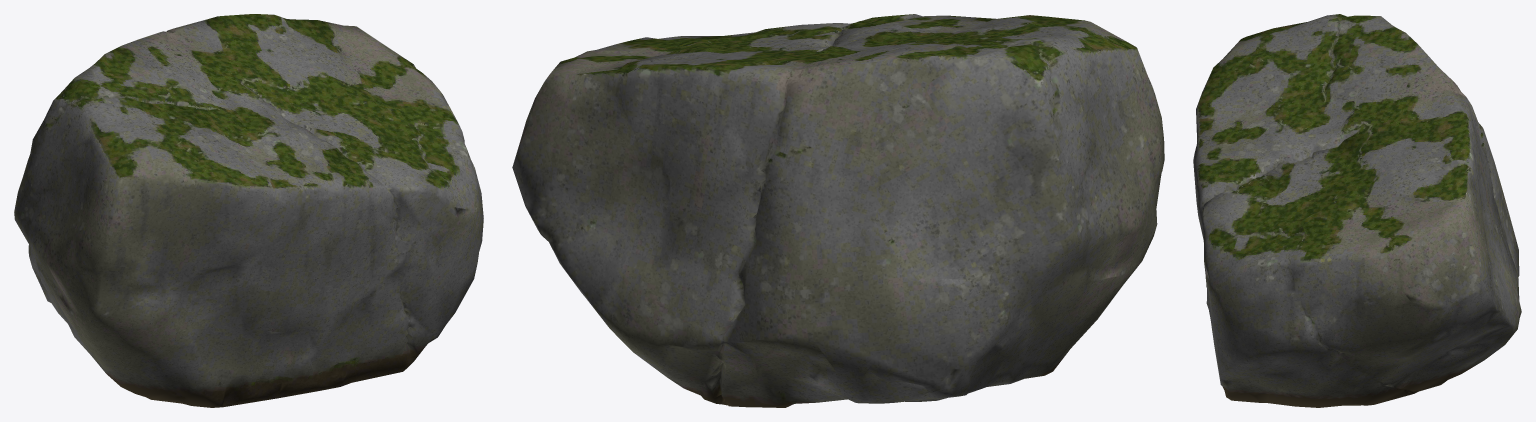
Rendered from GlacialErratic.glb.
3 renders of one model, left to right at view 1: azimuth 30°, elevation 25°; view 2: azimuth 150°, elevation 25°; view 3: azimuth 270°, elevation 25°, orthographic. The views are drawn at different scales.
Visible parts, largest first — view 1: erratic-boulder; view 2: erratic-boulder; view 3: erratic-boulder.
Boxes of the visible parts, x1,y1,x2,y2 form: erratic-boulder: [14, 14, 483, 407]; erratic-boulder: [512, 14, 1164, 407]; erratic-boulder: [1193, 14, 1521, 407].
Size of the model in its own units: 2.34 by 1.56 by 1.69.
1 material, 1 textured.
